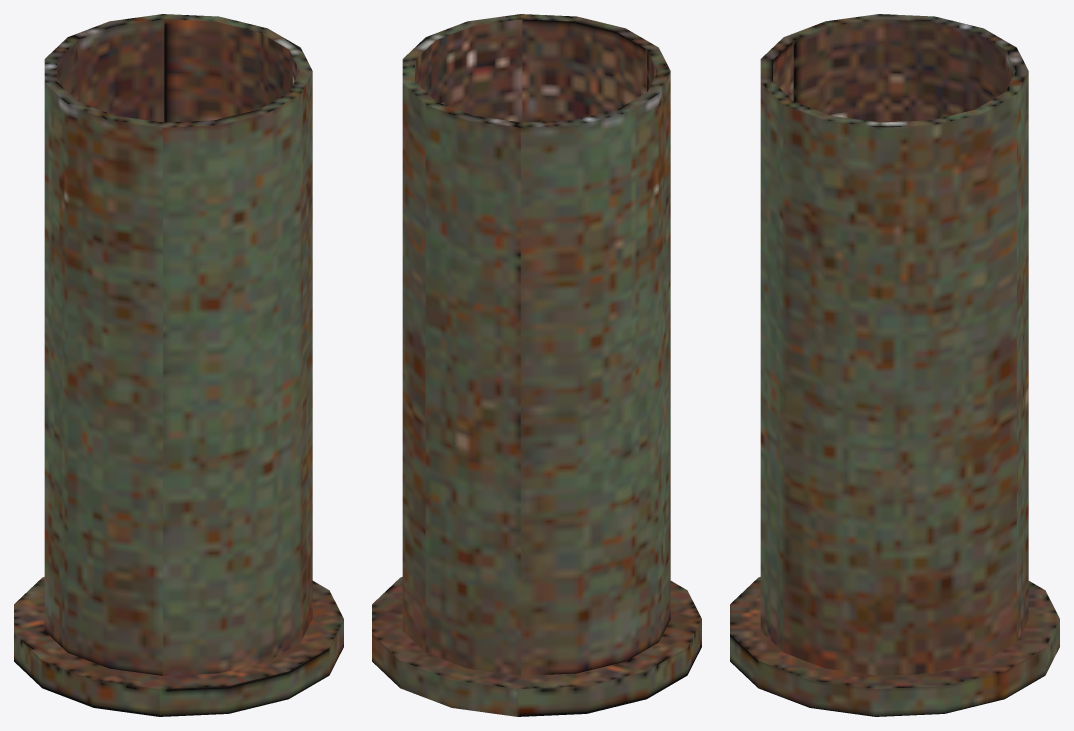
The model's file is Pipe_Set_2_5.glb.
The picture shows the model from 3 angles, left to right: view 1: azimuth 30°, elevation 25°; view 2: azimuth 150°, elevation 25°; view 3: azimuth 270°, elevation 25°; orthographic projection.
Visible parts, largest first — view 1: Pipe_Set_2_5; view 2: Pipe_Set_2_5; view 3: Pipe_Set_2_5.
Part boxes in pixels (box(x1,y1,x2,y2)): Pipe_Set_2_5: box(14, 14, 343, 716); Pipe_Set_2_5: box(372, 14, 701, 716); Pipe_Set_2_5: box(730, 14, 1059, 716).
Size of the model in its own units: 0.2701 by 0.5173 by 0.2686.
Materials: 1 (1 with a texture image).
